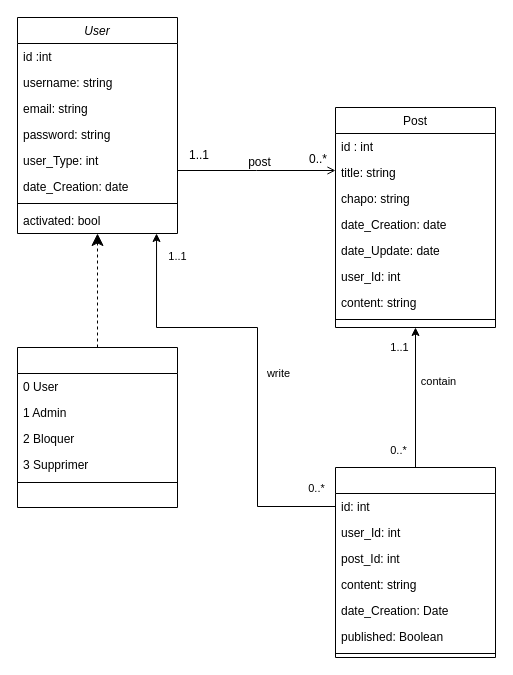
Image size: 513x675. Some labels were removed from this diagram. Here are the shapes that lost their labels. From the top down, the box of each, then its label:
(16, 346, 178, 508): User_Type
(334, 466, 496, 658): Comment
